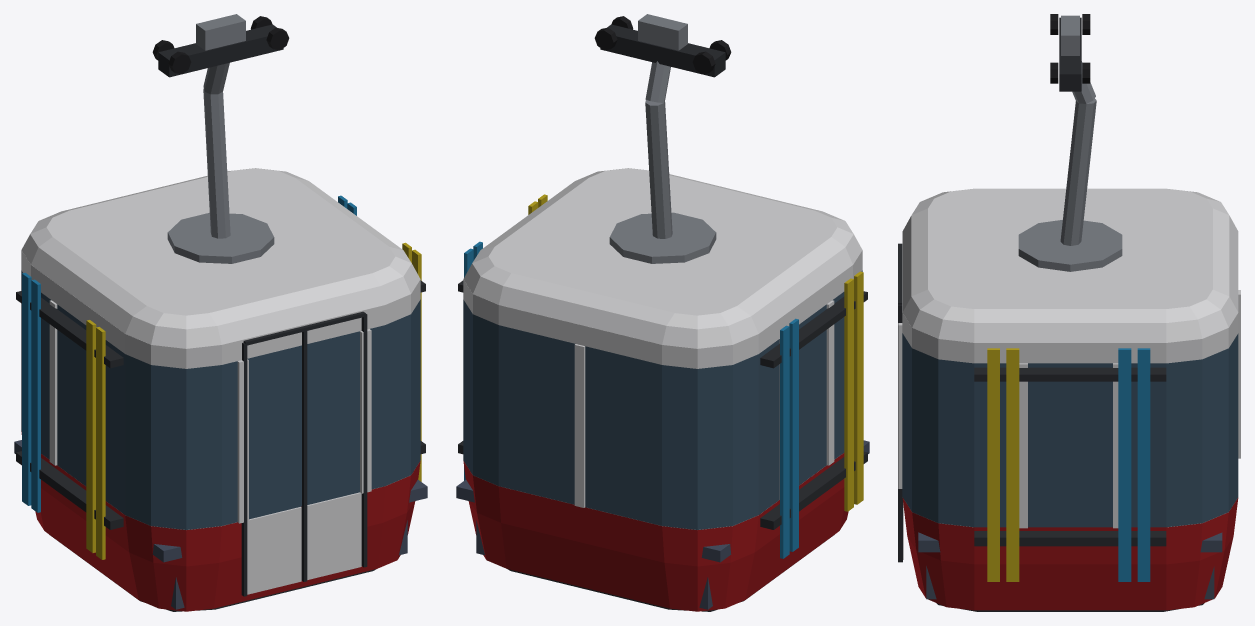
The model's file is gondola_cabin.obj.
3 views of the same model, side by side, from view 1: azimuth 30°, elevation 25°; view 2: azimuth 150°, elevation 25°; view 3: azimuth 270°, elevation 25° (orthographic).
Size of the model in its own units: 2.35 by 3.61 by 2.14.
